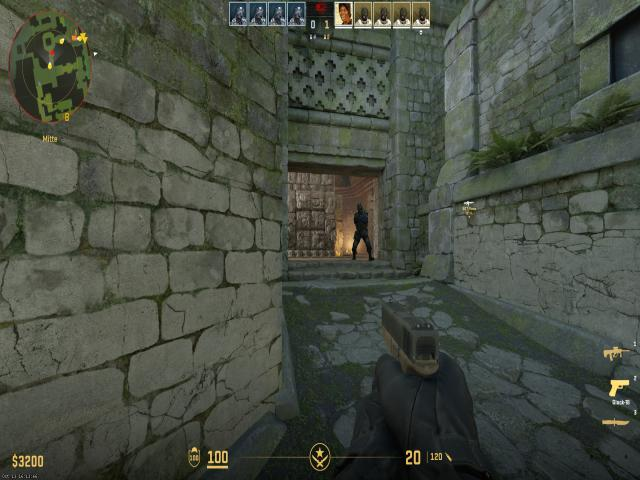CT: (350, 197, 372, 262)
CT-Head: (355, 202, 366, 214)
